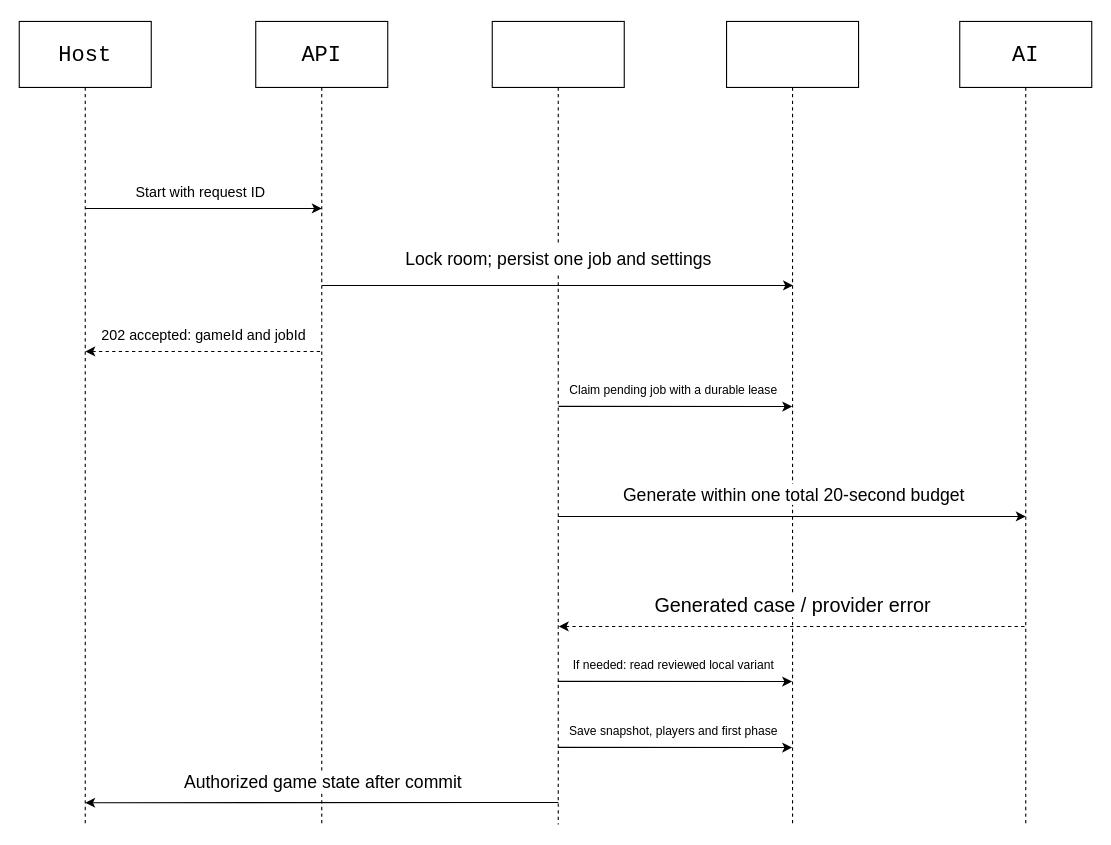
Some shapes in this 1111 by 845 pixel diagram are drawn without their labels. The shapes that lost their labels are listed below. From the top down, each one's centre as x and y in pixels, then its label:
At point 557,53: "Worker".
At point 792,53: "SQL".
